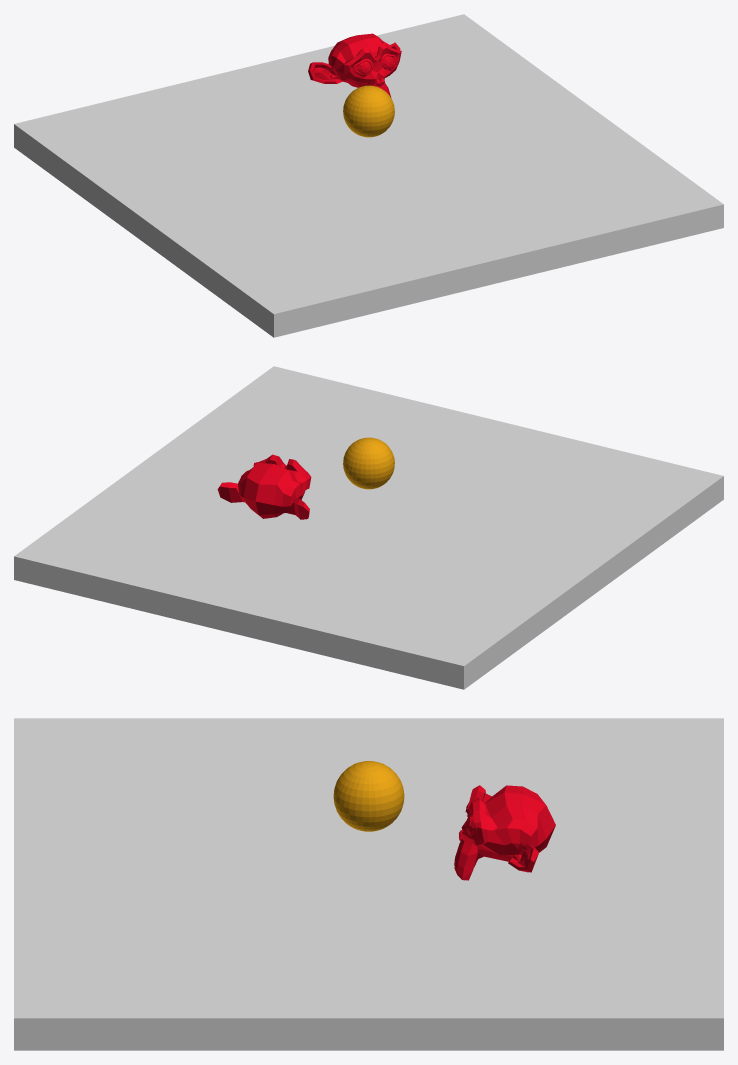
3 renders of one model, top to bottom at view 1: azimuth 30°, elevation 25°; view 2: azimuth 150°, elevation 25°; view 3: azimuth 270°, elevation 25°, orthographic. The views are drawn at different scales.
Parts seen in each view (by area): view 1: Cube, Suzanne, Sphere; view 2: Cube, Suzanne, Sphere; view 3: Cube, Suzanne, Sphere.
Part boxes in pixels (x1=…): Cube: x1=14, y1=14, x2=723, y2=337; Suzanne: x1=308, y1=33, x2=401, y2=97; Sphere: x1=343, y1=85, x2=394, y2=137; Cube: x1=14, y1=366, x2=723, y2=689; Suzanne: x1=217, y1=454, x2=311, y2=519; Sphere: x1=343, y1=437, x2=394, y2=489; Cube: x1=14, y1=718, x2=723, y2=1050; Suzanne: x1=454, y1=785, x2=555, y2=880; Sphere: x1=333, y1=761, x2=404, y2=831.
Bounding box in the file's own units: 20 × 4.3 × 20.
